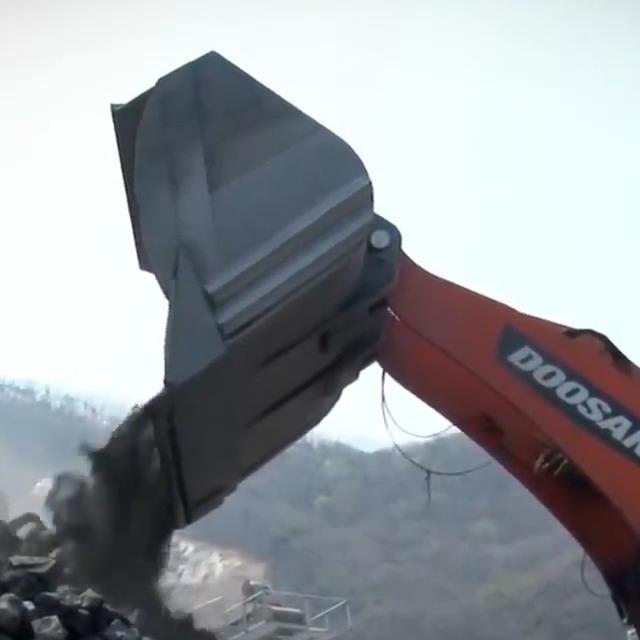wheel loader: (111, 20, 640, 640)
